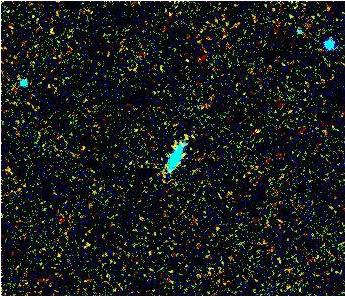star: (246, 115, 276, 145)
